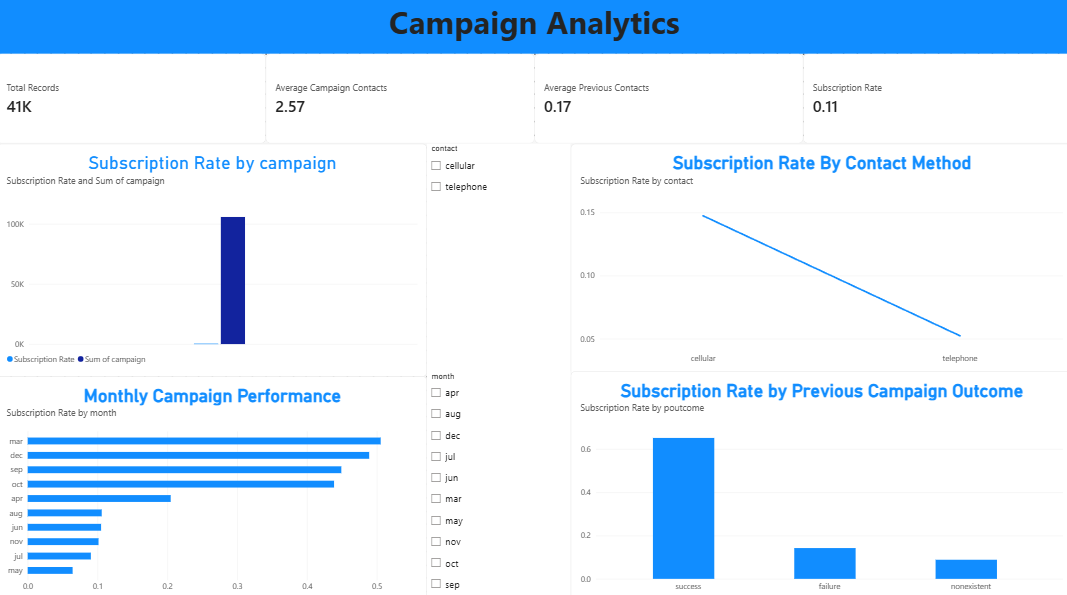

What the dashboard file says about the page in this screenshot:
{"tool":"powerbi","page":{"name":"Campaign Analytics","canvas":[1920,1080],"ordinal":2},"visuals":[{"type":"textbox","box":[0,0,1920,96],"z":0},{"type":"cardVisual","fields":{"Data":["bank_marketing.Total Records"]},"box":[0,96,480,160],"z":1000},{"type":"cardVisual","fields":{"Data":["bank_marketing.Average Campaign Contacts"]},"box":[480,96,480,160],"z":2000},{"type":"cardVisual","fields":{"Data":["bank_marketing.Average Previous Contacts"]},"box":[960,96,480,160],"z":3000},{"type":"cardVisual","fields":{"Data":["bank_marketing.Subscription Rate"]},"box":[1440,96,480,160],"z":4000},{"type":"lineChart","title":"Subscription Rate By Contact Method","fields":{"Category":["bank_marketing.contact"],"Y":["bank_marketing.Subscription Rate"]},"box":[1024,256,896,416],"z":5000},{"type":"clusteredColumnChart","title":"Subscription Rate by campaign","fields":{"Y":["bank_marketing.Subscription Rate","Sum(bank_marketing.campaign)"]},"box":[0,256,768,416],"z":6000},{"type":"clusteredColumnChart","title":"Subscription Rate by Previous Campaign Outcome","fields":{"Category":["bank_marketing.poutcome"],"Y":["bank_marketing.Subscription Rate"]},"box":[1024,664,896,416],"z":7000},{"type":"clusteredBarChart","title":"Monthly Campaign Performance","fields":{"Category":["bank_marketing.month"],"Y":["bank_marketing.Subscription Rate"]},"box":[0,672,768,408],"z":8000},{"type":"slicer","fields":{"Values":["bank_marketing.contact"]},"box":[768,256,256,416],"z":9000},{"type":"slicer","fields":{"Values":["bank_marketing.month"]},"box":[768,664,256,416],"z":10000}]}

Visuals, with their boxes in screenshot pixels (x1, y1, x2, y2), scaled from the page's 1920x1080 canvas onto the 1067x595 screenshot:
textbox: [0,0,1066,53]
cardVisual - bank_marketing.Total Records: [0,53,267,141]
cardVisual - bank_marketing.Average Campaign Contacts: [267,53,534,141]
cardVisual - bank_marketing.Average Previous Contacts: [534,53,800,141]
cardVisual - bank_marketing.Subscription Rate: [800,53,1066,141]
"Subscription Rate By Contact Method" lineChart: [569,141,1066,370]
"Subscription Rate by campaign" clusteredColumnChart: [0,141,427,370]
"Subscription Rate by Previous Campaign Outcome" clusteredColumnChart: [569,366,1066,594]
"Monthly Campaign Performance" clusteredBarChart: [0,370,427,594]
slicer - bank_marketing.contact: [427,141,569,370]
slicer - bank_marketing.month: [427,366,569,594]
